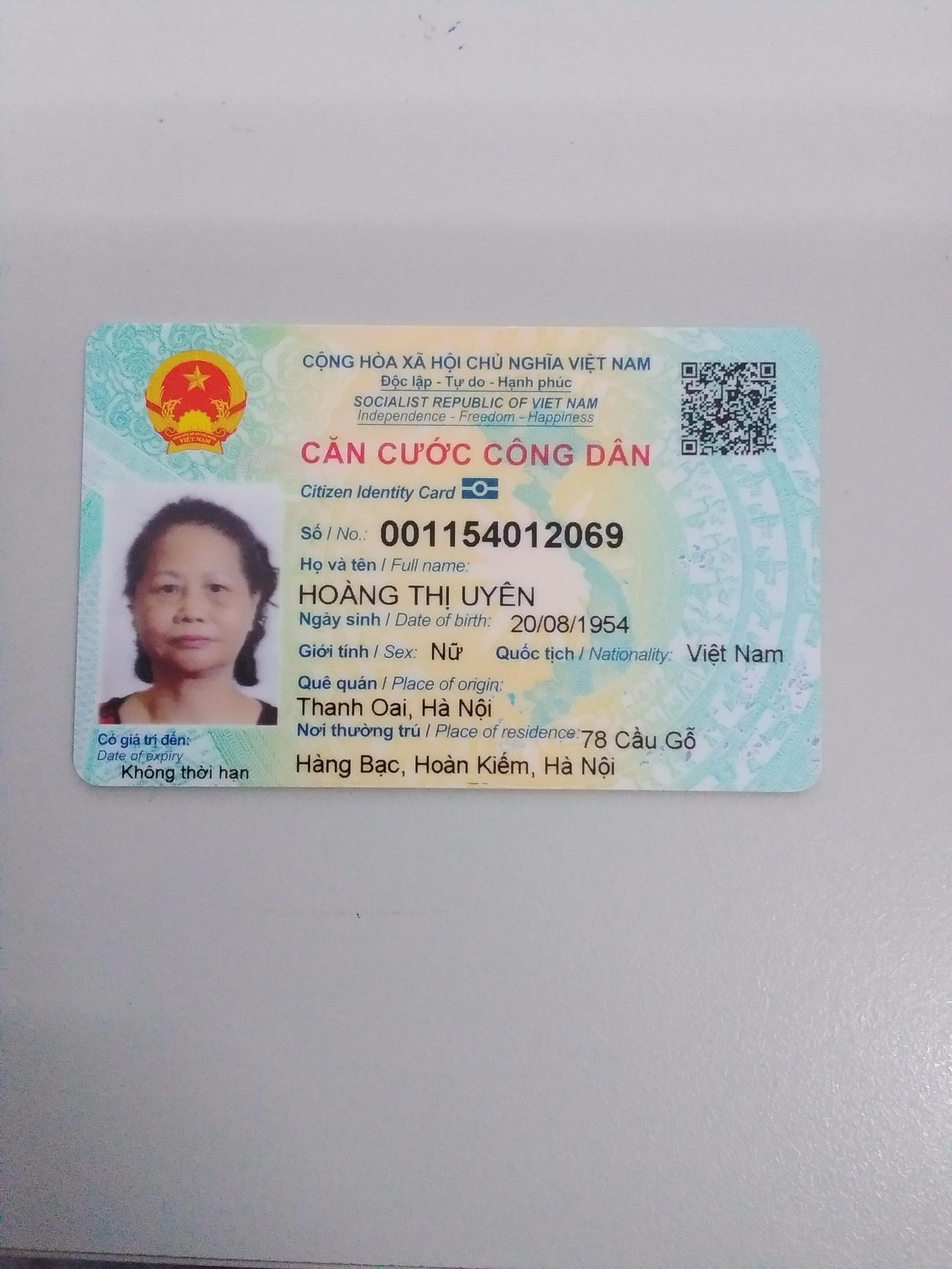ID: (371, 508, 634, 554)
birth: (503, 612, 636, 640)
name: (290, 574, 551, 611)
place: (296, 688, 497, 724)
residence: (293, 745, 627, 786), (577, 720, 702, 758)
